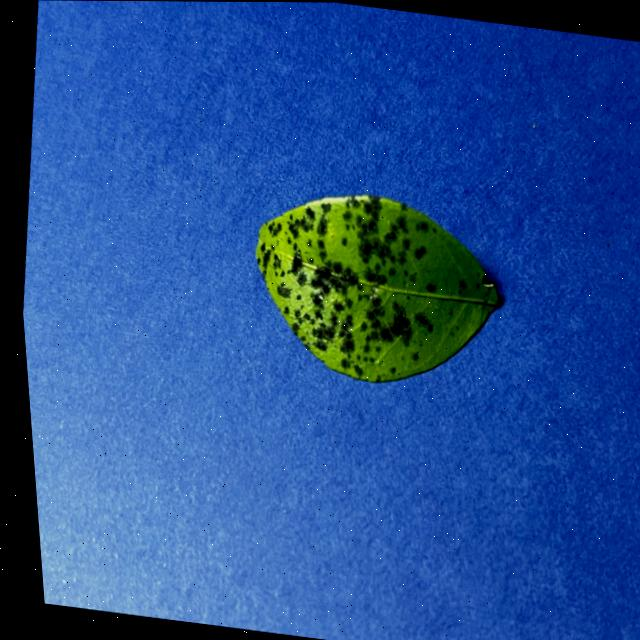sooty_mold: (255, 195, 497, 382)
